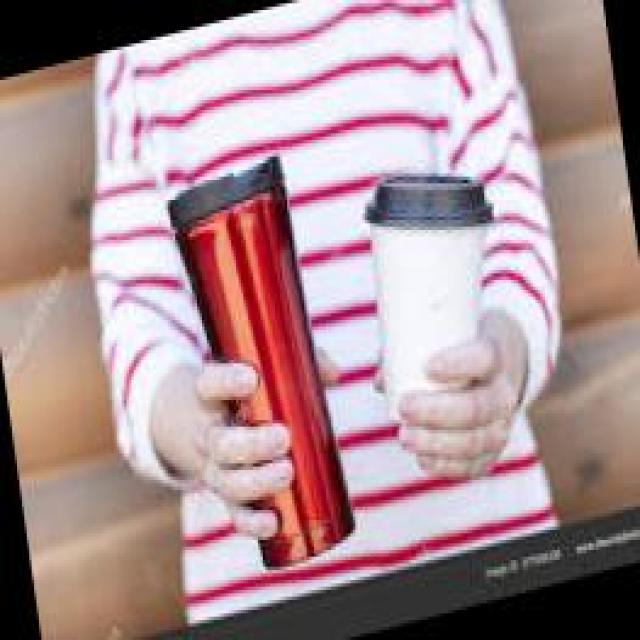bottle: (163, 148, 355, 585), (353, 143, 516, 410)
